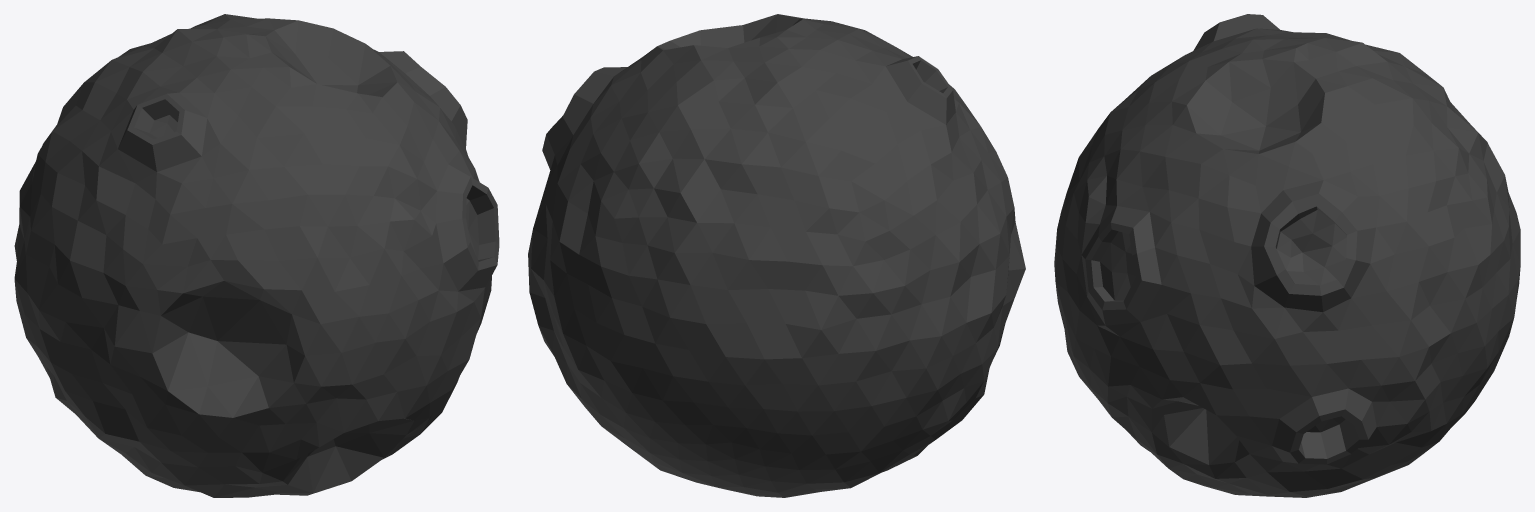
Rendered from moon.glb.
3 renders of one model, left to right at view 1: azimuth 30°, elevation 25°; view 2: azimuth 150°, elevation 25°; view 3: azimuth 270°, elevation 25°, orthographic. The views are drawn at different scales.
Visible parts, largest first — view 1: MOON; view 2: MOON; view 3: MOON.
Boxes of the visible parts, x1=… form: MOON: x1=14, y1=14, x2=499, y2=497; MOON: x1=528, y1=14, x2=1025, y2=497; MOON: x1=1054, y1=14, x2=1520, y2=497.
Bounding box in the file's own units: 2.1 × 2.06 × 2.03.
Materials: 1 (1 with a texture image).
